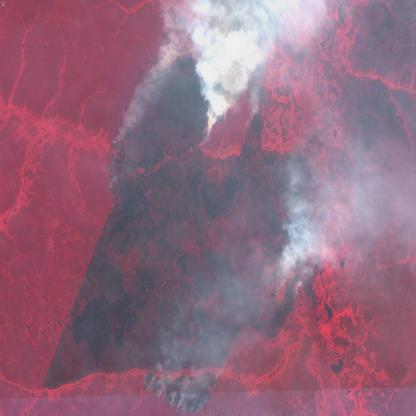fire: (110, 40, 259, 190), (141, 370, 221, 416), (273, 233, 315, 309)
